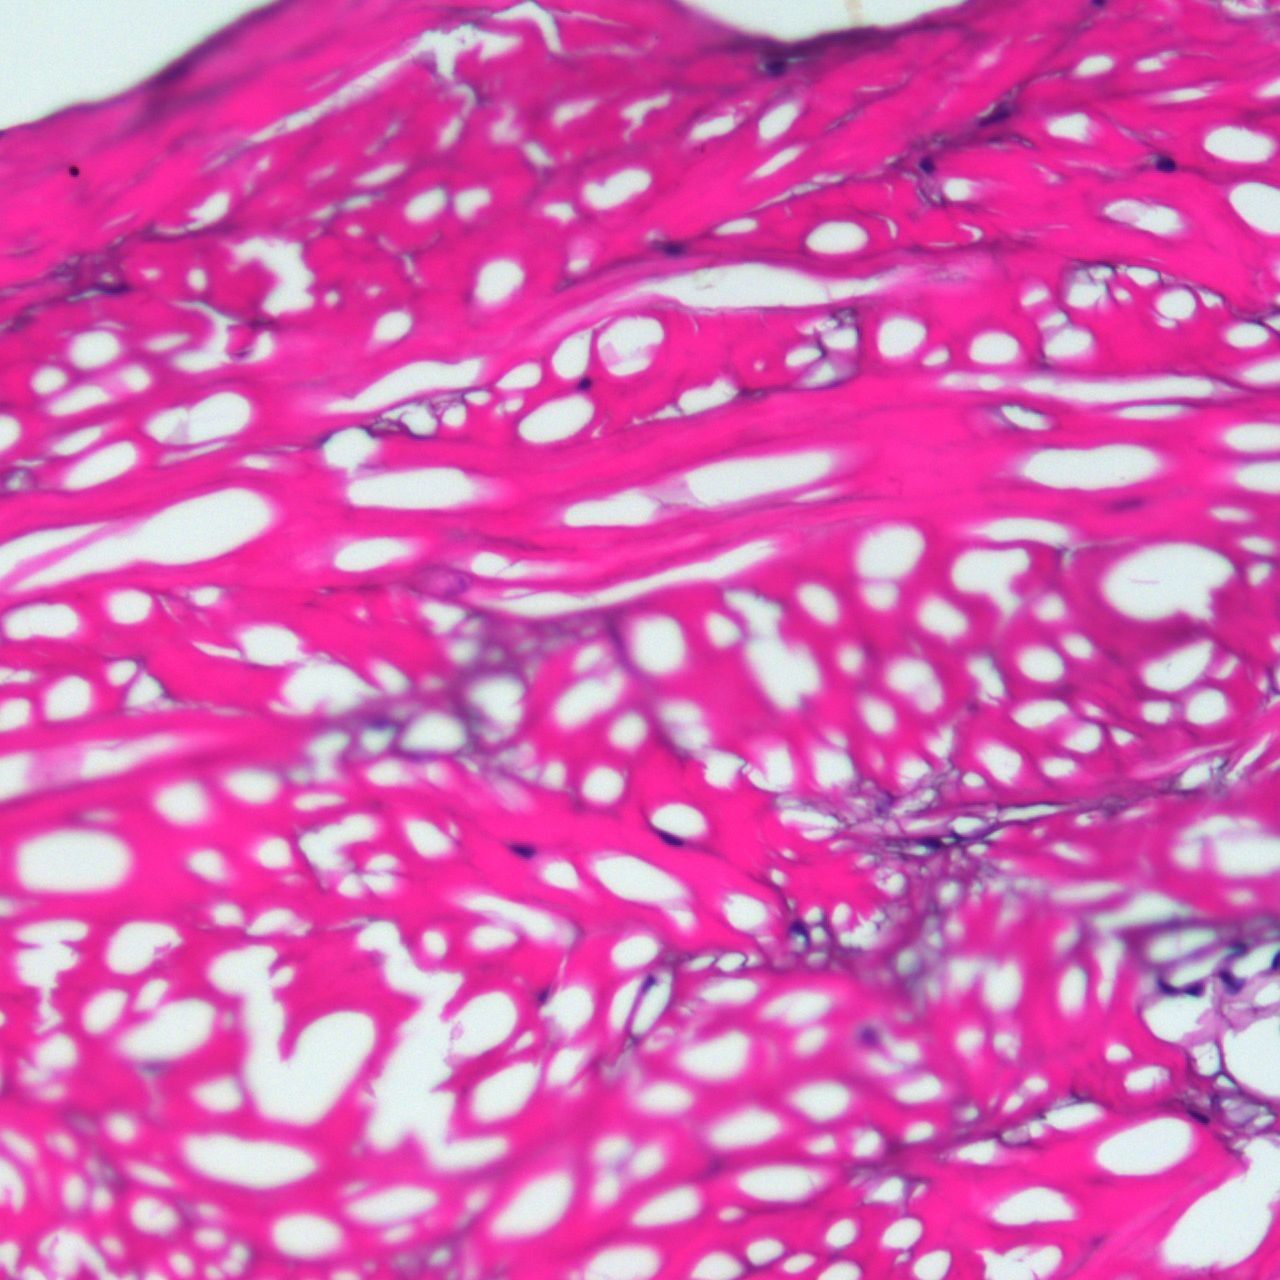nucleus-HE: (657, 829, 681, 848), (511, 842, 532, 858), (662, 242, 684, 255), (918, 157, 933, 173), (1155, 158, 1175, 170), (577, 376, 590, 390), (69, 166, 78, 176)
